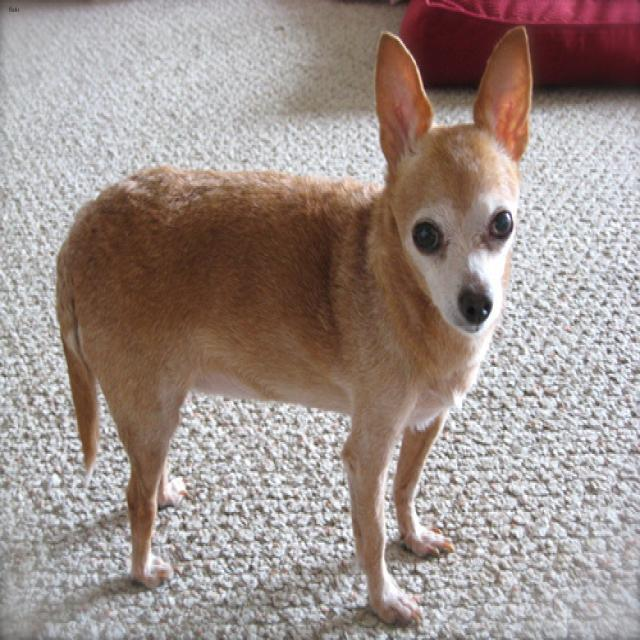dog-chihuahua: (44, 17, 539, 637)
